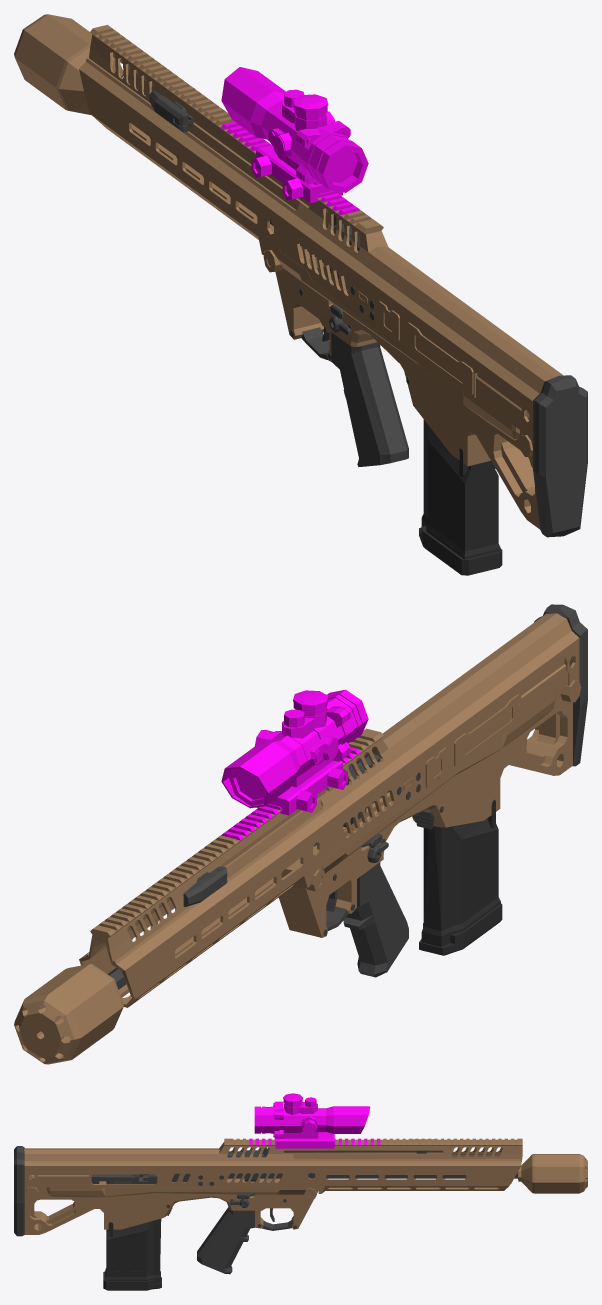
The model's file is fusil_15.glb.
3 renders of one model, top to bottom at view 1: azimuth 30°, elevation 25°; view 2: azimuth 150°, elevation 25°; view 3: azimuth 270°, elevation 25°, orthographic. The views are drawn at different scales.
Visible parts, largest first — view 1: p2_accent, p41_accent, p109_mag, p108_paint, p30_cut, p83_paint, p0_accent, p54_accent, p4_accent, p103_accent, p56_cut, p37_cut (+1 smaller); view 2: p2_accent, p41_accent, p109_mag, p0_accent, p30_cut, p83_paint, p54_accent, p4_accent, p108_paint, p103_accent, p37_cut, p56_cut (+2 smaller); view 3: p2_accent, p41_accent, p109_mag, p0_accent, p30_cut, p83_paint, p53_accent, p4_accent, p108_paint, p1_paint, p37_cut, p56_cut (+1 smaller).
Part boxes in pixels (x1,y1,x2,y2): p2_accent: (79, 25, 563, 458); p41_accent: (275, 246, 539, 529); p109_mag: (419, 419, 502, 575); p108_paint: (533, 375, 587, 537); p30_cut: (221, 67, 368, 192); p83_paint: (331, 332, 408, 467); p0_accent: (14, 14, 123, 115); p54_accent: (277, 250, 519, 440); p4_accent: (88, 109, 273, 255); p103_accent: (406, 322, 473, 395); p56_cut: (293, 94, 328, 130); p37_cut: (256, 144, 342, 203); p2_accent: (79, 613, 579, 996); p41_accent: (278, 689, 572, 937); p109_mag: (419, 800, 502, 955); p0_accent: (14, 963, 123, 1064); p30_cut: (221, 689, 368, 808); p83_paint: (343, 862, 408, 977); p54_accent: (322, 694, 555, 873); p4_accent: (118, 865, 310, 1007); p108_paint: (534, 604, 587, 766); p103_accent: (454, 694, 521, 767); p37_cut: (256, 760, 342, 815); p56_cut: (293, 690, 328, 727); p2_accent: (24, 1138, 522, 1197); p41_accent: (24, 1176, 318, 1234); p109_mag: (103, 1181, 161, 1290); p0_accent: (518, 1154, 587, 1193); p30_cut: (254, 1106, 370, 1133); p83_paint: (197, 1207, 254, 1274); p53_accent: (46, 1185, 304, 1197); p4_accent: (318, 1178, 509, 1193); p108_paint: (14, 1146, 24, 1236); p1_paint: (171, 1172, 517, 1182); p37_cut: (275, 1132, 334, 1148); p56_cut: (283, 1093, 302, 1114).
Bounding box in the file's own units: 0.0654 × 0.3192 × 0.88.
